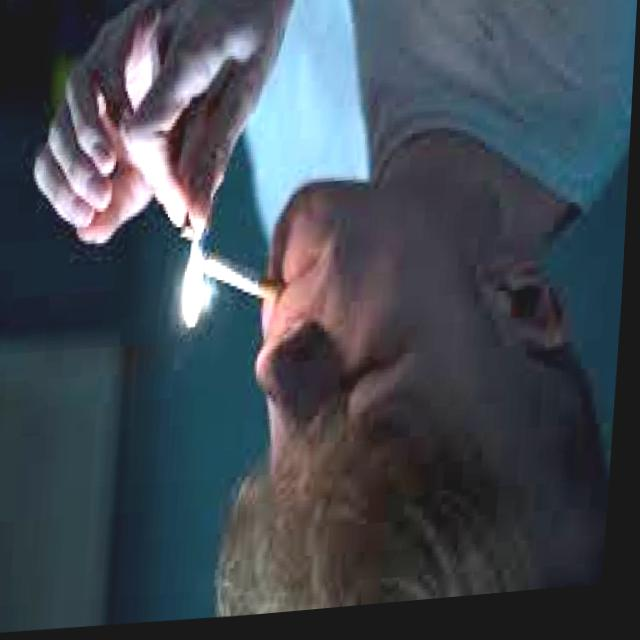Fire: (176, 249, 212, 352)
